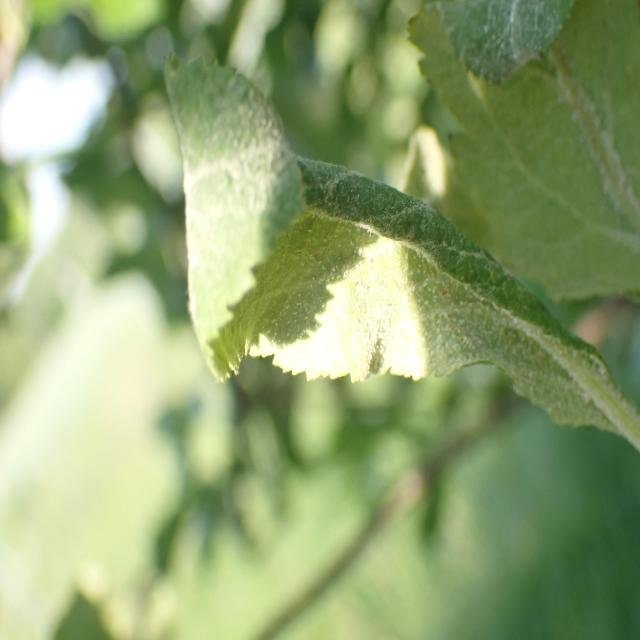Powdery_mildew: (158, 48, 640, 430), (410, 0, 640, 310)
